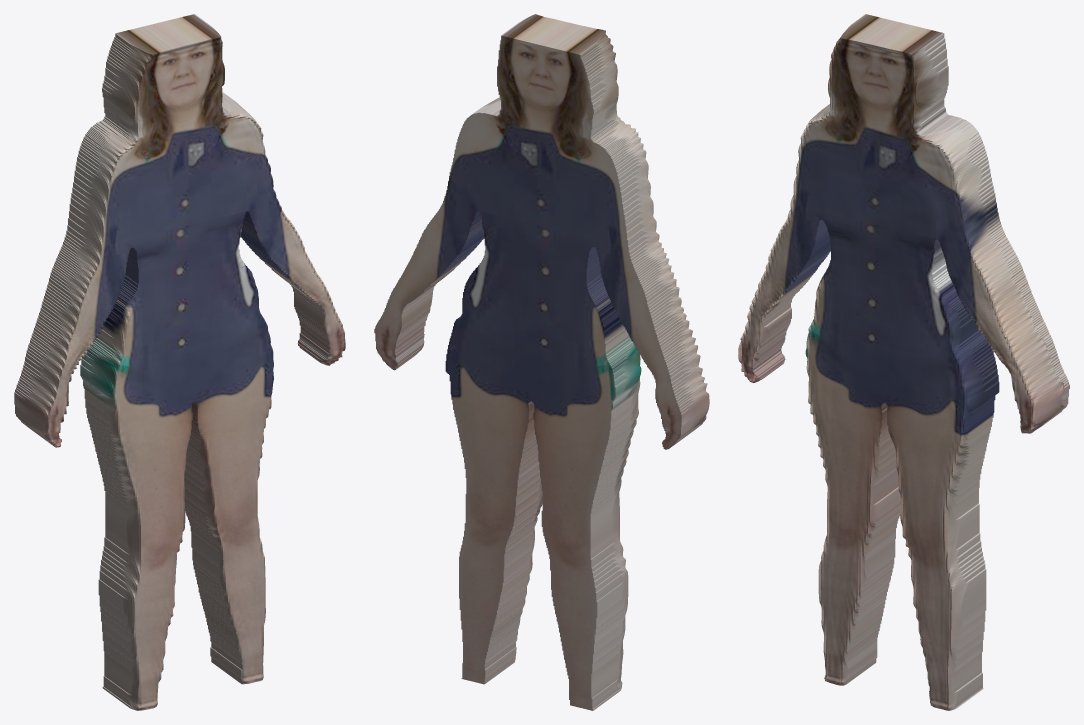
File: avatar_192937.glb
3 renders of one model, left to right at view 1: azimuth 30°, elevation 25°; view 2: azimuth 150°, elevation 25°; view 3: azimuth 330°, elevation 25°, orthographic.
Visible parts, largest first — view 1: world; view 2: world; view 3: world.
Boxes of the visible parts, x1,y1,x2,y2 form: world: (14,14,345,710); world: (374,14,709,710); world: (738,14,1069,710).
Bounding box in the file's own units: 70.49 × 143 × 13.45.
